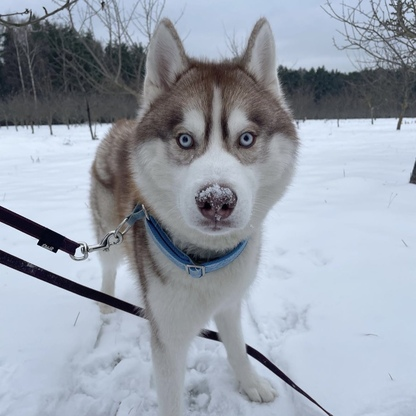husky: (81, 13, 307, 416)
